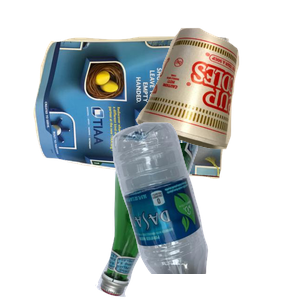glass: (93, 143, 284, 300)
paper: (31, 34, 252, 205)
plastic: (110, 120, 300, 300)
trash: (133, 25, 300, 167)
